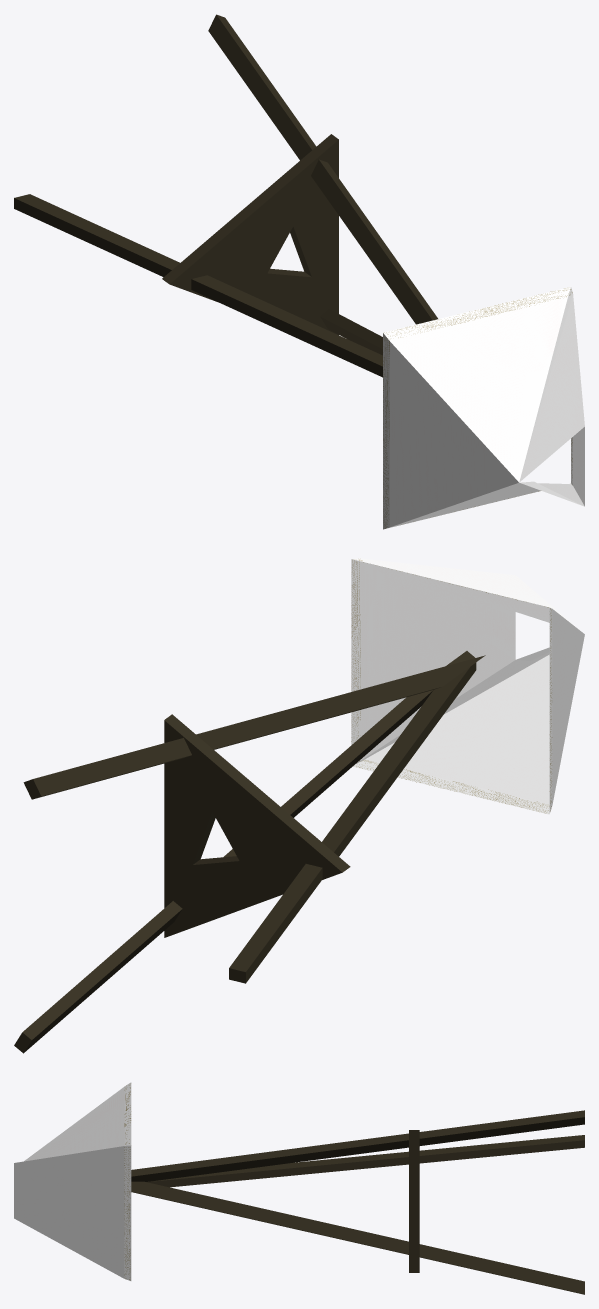
3 views of the same model, one above another, from view 1: azimuth 30°, elevation 25°; view 2: azimuth 150°, elevation 25°; view 3: azimuth 270°, elevation 25° (orthographic). The views are drawn at different scales.
Visible parts, largest first — view 1: floor lamp; view 2: floor lamp; view 3: floor lamp.
Boxes of the visible parts, left/top/right/bottom form: floor lamp: left=14, top=14, right=584, bottom=529; floor lamp: left=14, top=558, right=584, bottom=1053; floor lamp: left=14, top=1082, right=584, bottom=1294.
Size of the model in its own units: 17.3 by 19.04 by 54.29.
